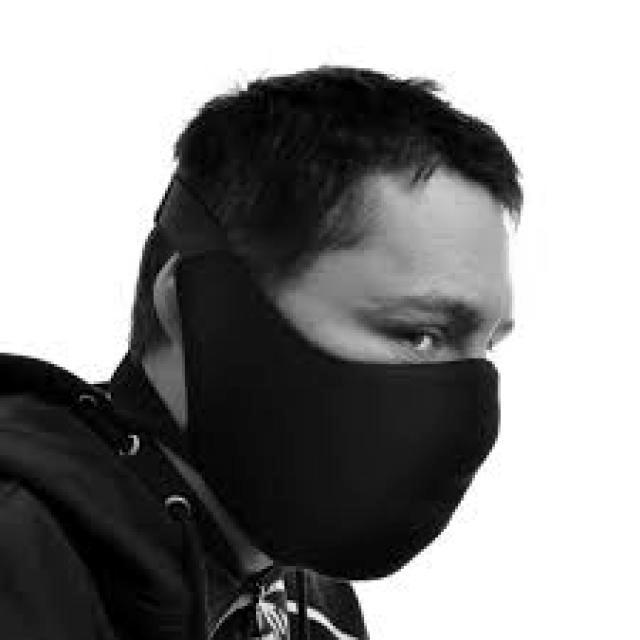fake: (177, 355, 506, 591)
real: (300, 171, 521, 586)
